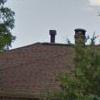Chimney: (70, 22, 90, 53)
